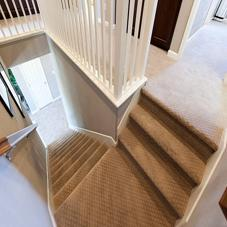Animal: (44, 129, 113, 201)
